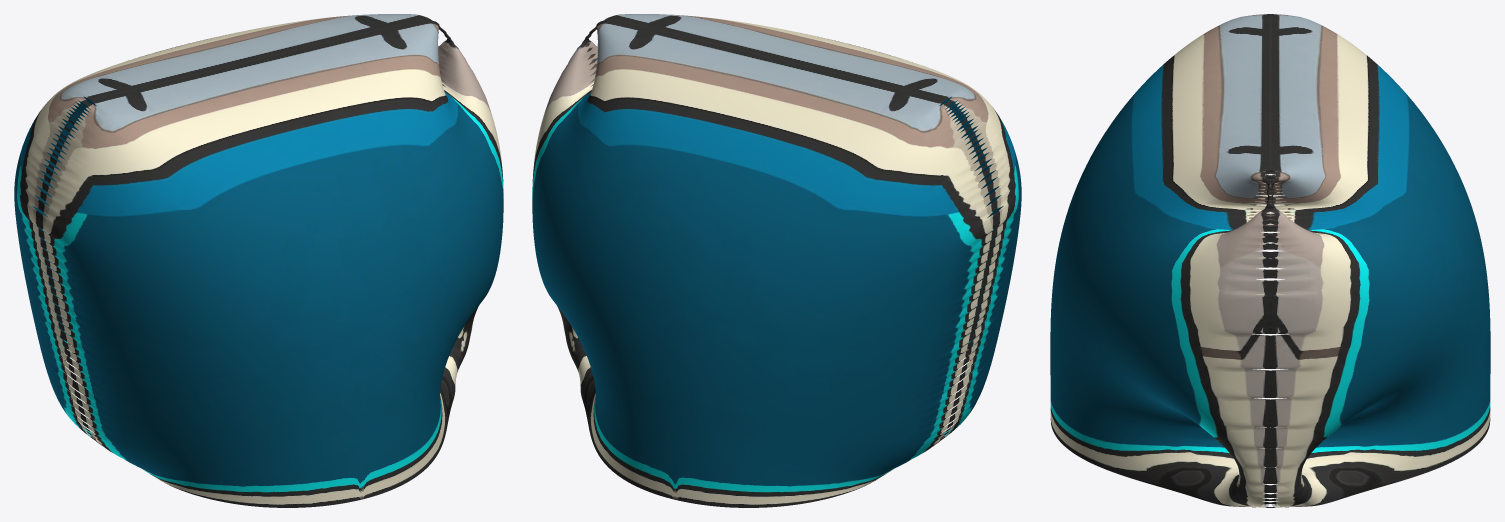
The model's file is wall_monitor.glb.
3 renders of one model, left to right at view 1: azimuth 30°, elevation 25°; view 2: azimuth 150°, elevation 25°; view 3: azimuth 270°, elevation 25°, orthographic. The views are drawn at different scales.
Parts seen in each view (by area): view 1: wall_monitor; view 2: wall_monitor; view 3: wall_monitor.
Part boxes in pixels (x1,y1,x2,y2): wall_monitor: (14,14,503,507); wall_monitor: (532,14,1021,507); wall_monitor: (1050,14,1490,507).
Size of the model in its own units: 0.9889 by 0.7626 by 0.9105.
Materials: 1 (1 with a texture image).
